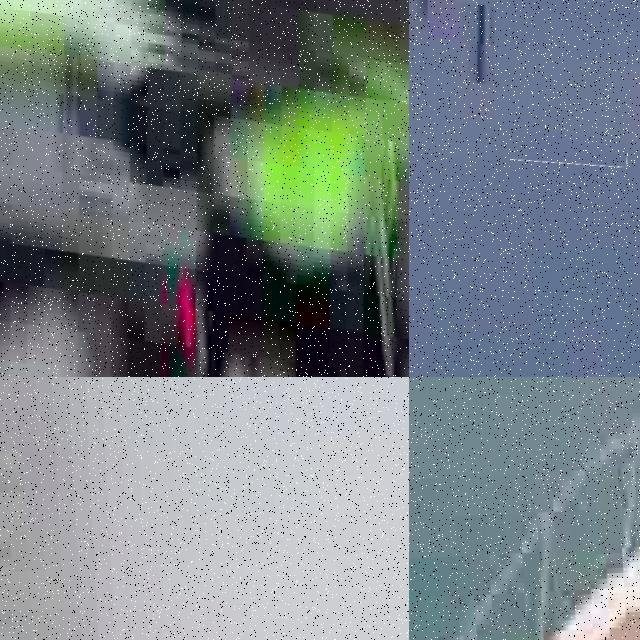drone: (0, 0, 409, 377), (409, 0, 640, 177)
